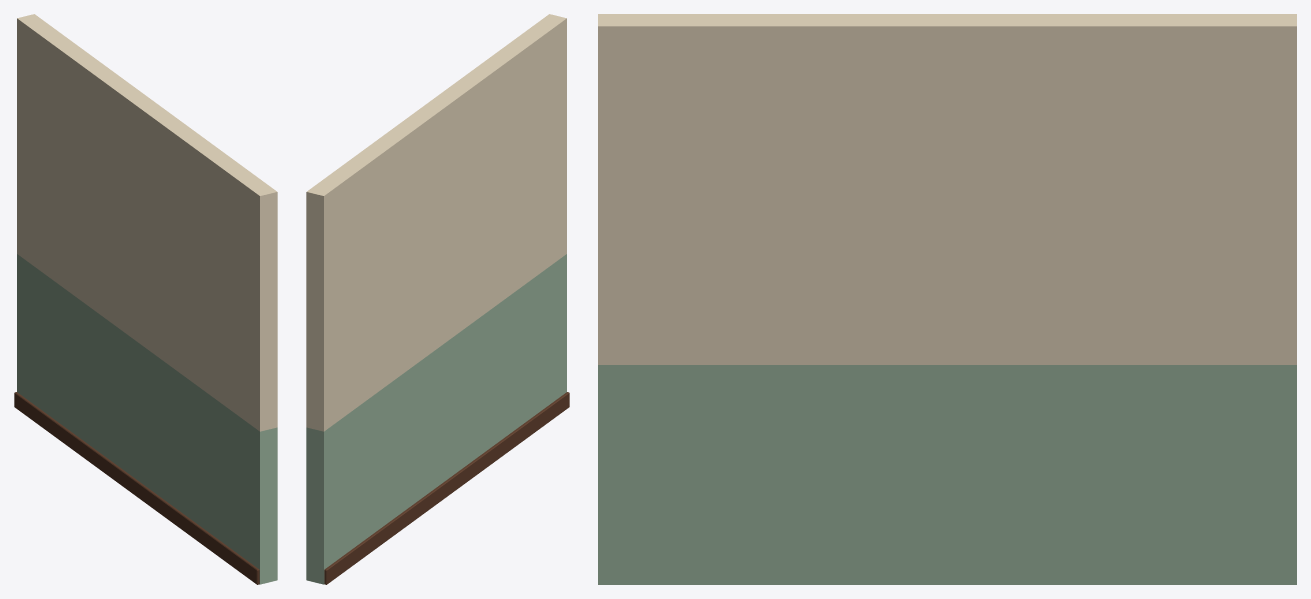
Rendered from room_shell_wall_x.glb.
The picture shows the model from 3 angles, left to right: view 1: azimuth 30°, elevation 25°; view 2: azimuth 150°, elevation 25°; view 3: azimuth 270°, elevation 25°; orthographic projection. The views are drawn at different scales.
Parts seen in each view (by area): view 1: room_shell_wall_x; view 2: room_shell_wall_x; view 3: room_shell_wall_x.
Boxes of the visible parts, box(x1,y1,x2,y2) form: room_shell_wall_x: box(14, 14, 277, 584); room_shell_wall_x: box(306, 14, 569, 584); room_shell_wall_x: box(598, 14, 1296, 584).
Bounding box in the file's own units: 0.14 × 2.54 × 2.88.
